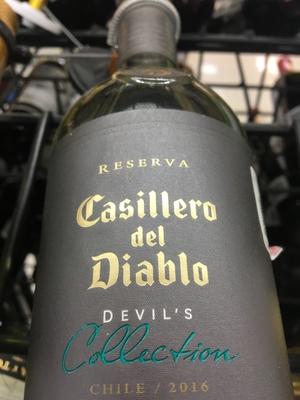casillero del diablo devils collection verde: (47, 19, 273, 400)
